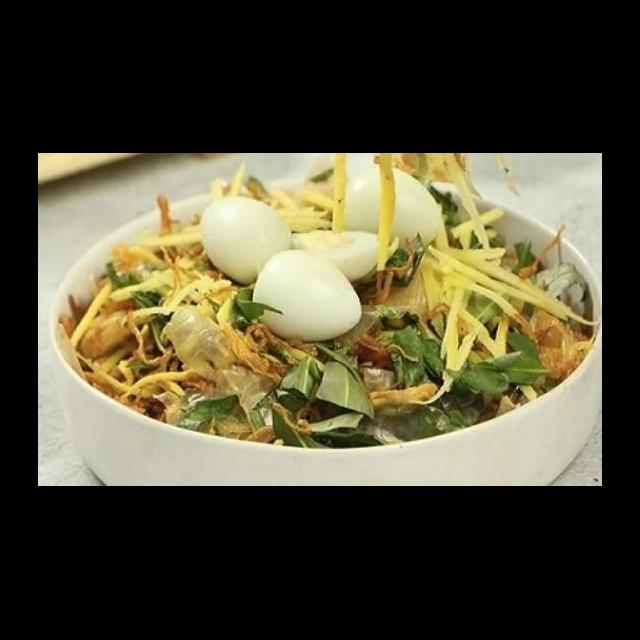rau ram: (263, 337, 391, 452), (369, 322, 482, 442), (438, 326, 553, 398), (460, 236, 534, 326), (179, 384, 273, 446), (371, 228, 426, 292), (224, 286, 286, 330)
trung: (247, 246, 366, 346), (335, 160, 446, 252), (196, 192, 296, 284), (287, 224, 384, 286)
